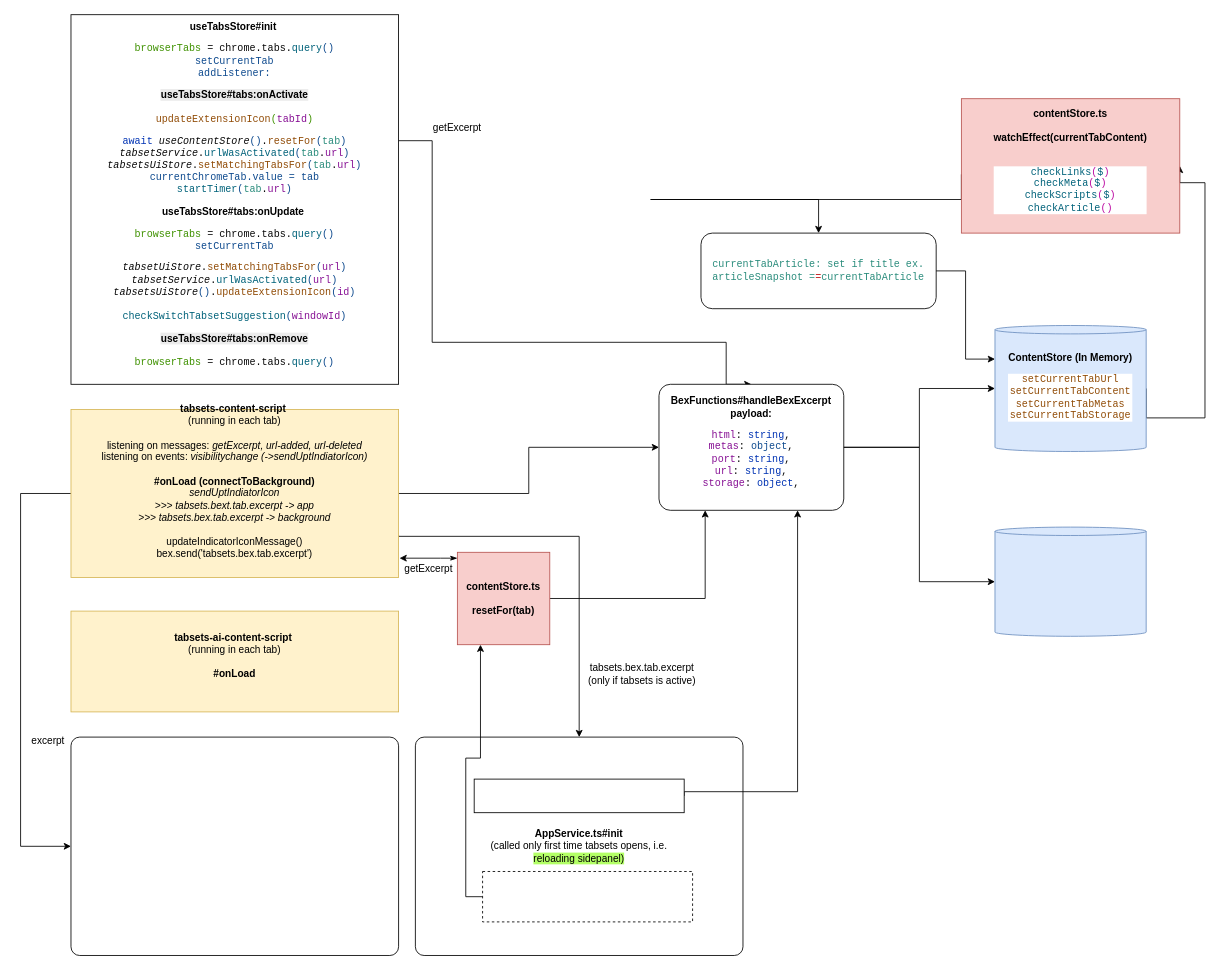
Image size: 1226x970. Some labels were removed from this diagram. Here are the shapes that lost their labels. From the top down, the centre of each, then its label:
At point (1070, 581): "Content IndexedDB saveContent update existing tabReferences".
At point (578, 795): "App.ts#bex.on('tabsets.bex.tab.exerpt') BexFunctions#handleBexExerpt()".
At point (234, 846): "background".
At point (587, 896): "updateExtensionIcon ( tabId ) useContentStore () . resetFor ( tab )".
